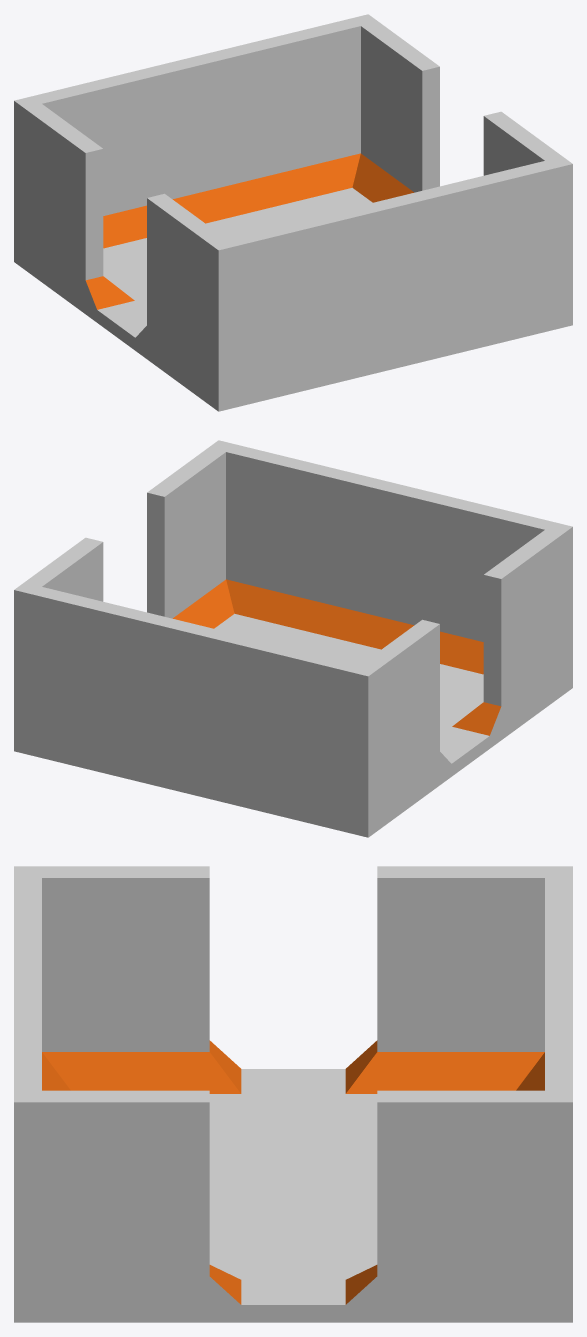
3 views of the same model, one above another, from view 1: azimuth 30°, elevation 25°; view 2: azimuth 150°, elevation 25°; view 3: azimuth 270°, elevation 25° (orthographic). The views are drawn at different scales.
Parts seen in each view (by area): view 1: Плоскость.002; view 2: Плоскость.002; view 3: Плоскость.002.
Part boxes in pixels (x1=…): Плоскость.002: x1=14, y1=14, x2=572, y2=411; Плоскость.002: x1=14, y1=440, x2=572, y2=837; Плоскость.002: x1=14, y1=866, x2=572, y2=1322.
Size of the model in its own units: 599 by 260 by 599.
